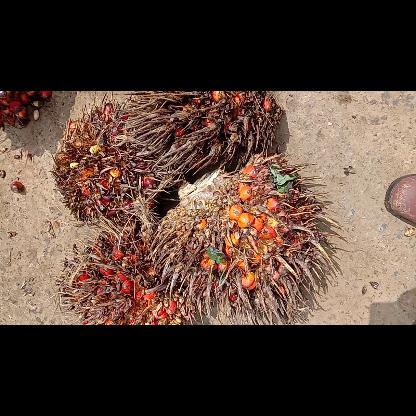Terlalu masak: (146, 150, 346, 324), (46, 90, 186, 226), (51, 218, 205, 324), (113, 91, 287, 177)
